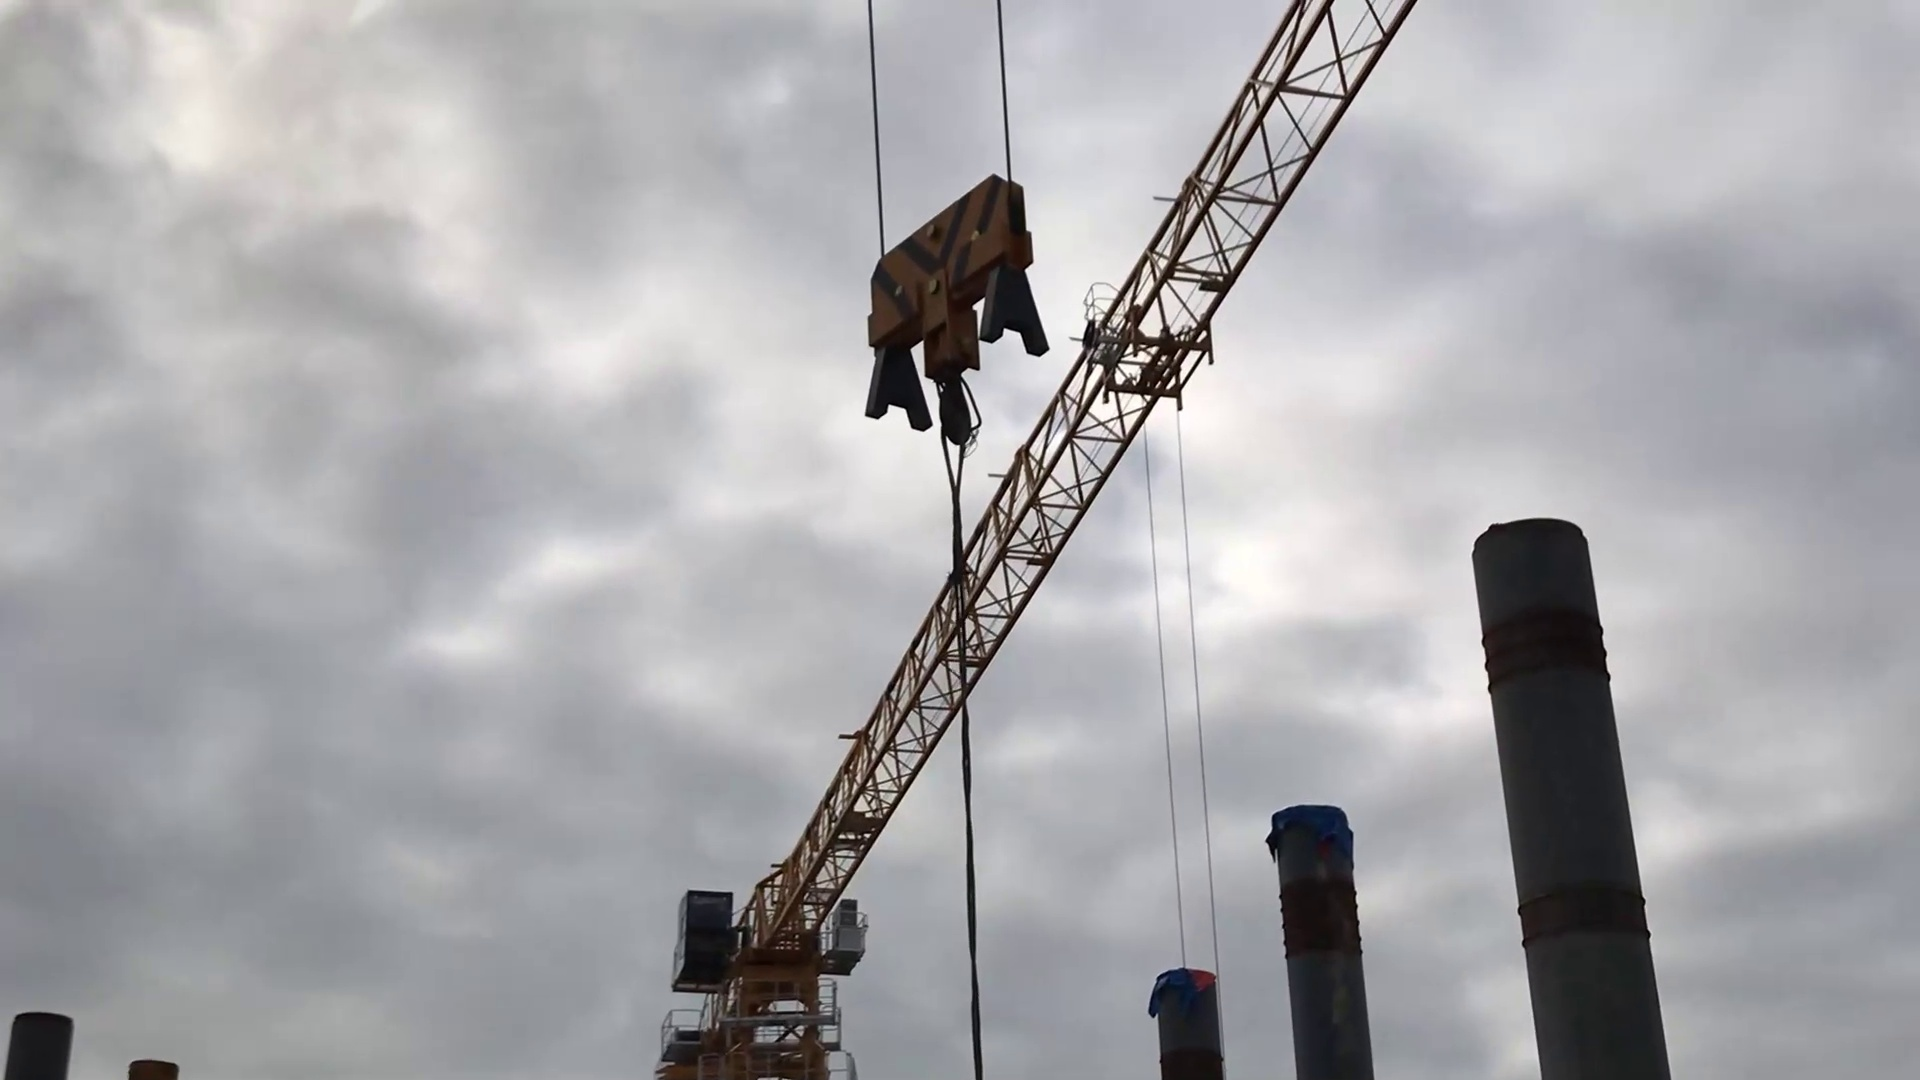hook: (855, 164, 1055, 448)
